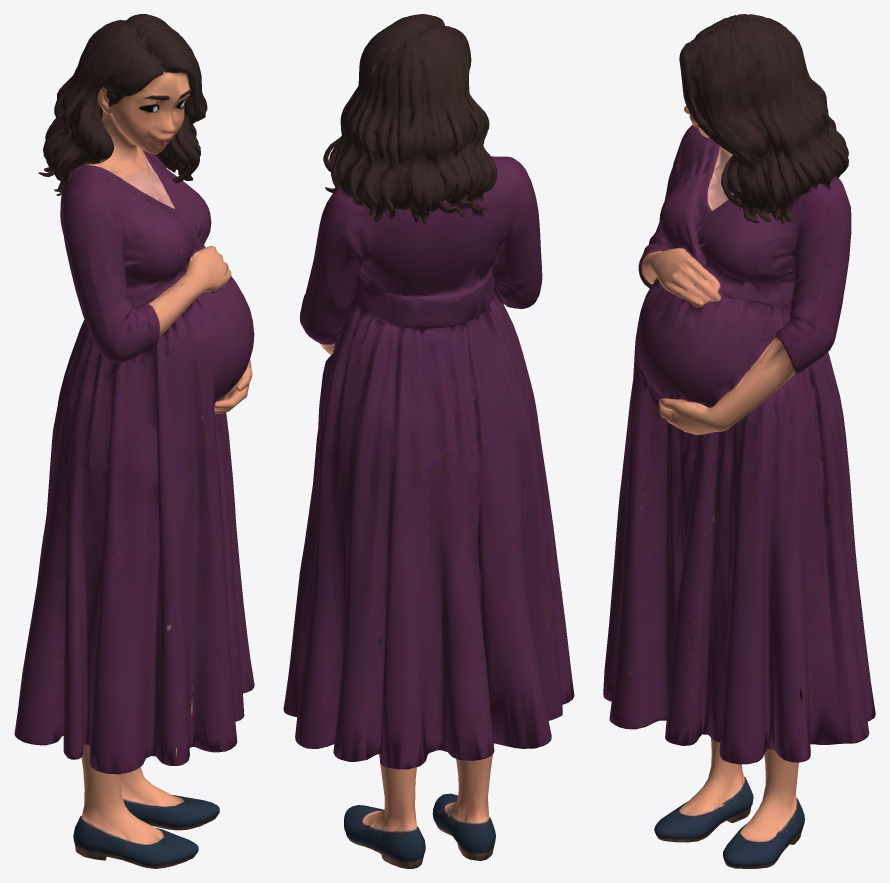
The model's file is gestante.glb.
3 renders of one model, left to right at view 1: azimuth 30°, elevation 25°; view 2: azimuth 150°, elevation 25°; view 3: azimuth 270°, elevation 25°, orthographic.
Visible parts, largest first — view 1: geometry_0; view 2: geometry_0; view 3: geometry_0.
Boxes of the visible parts, x1,y1,x2,y2 form: geometry_0: [14, 14, 254, 868]; geometry_0: [283, 14, 574, 868]; geometry_0: [603, 14, 875, 868].
Size of the model in its own units: 0.5724 by 1.9 by 0.5714.
Materials: 1 (1 with a texture image).
